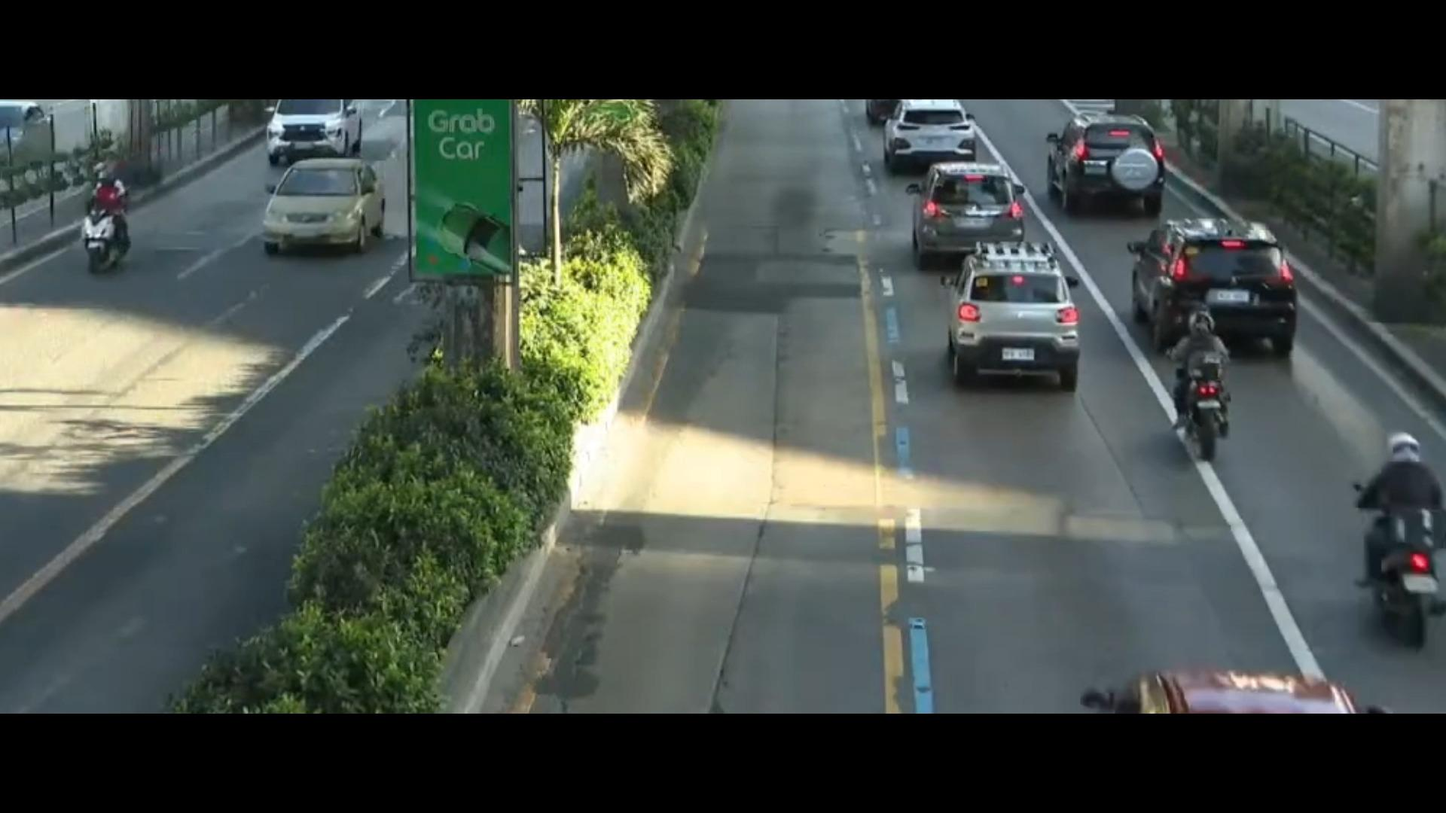Motorcycle: (1352, 390, 1446, 662), (1145, 300, 1242, 472), (51, 160, 157, 268)
SUV: (1120, 194, 1320, 361), (929, 228, 1109, 385), (917, 134, 1040, 269), (1048, 102, 1188, 220), (251, 91, 362, 159), (878, 104, 977, 175)
Sedan: (248, 158, 405, 266)
